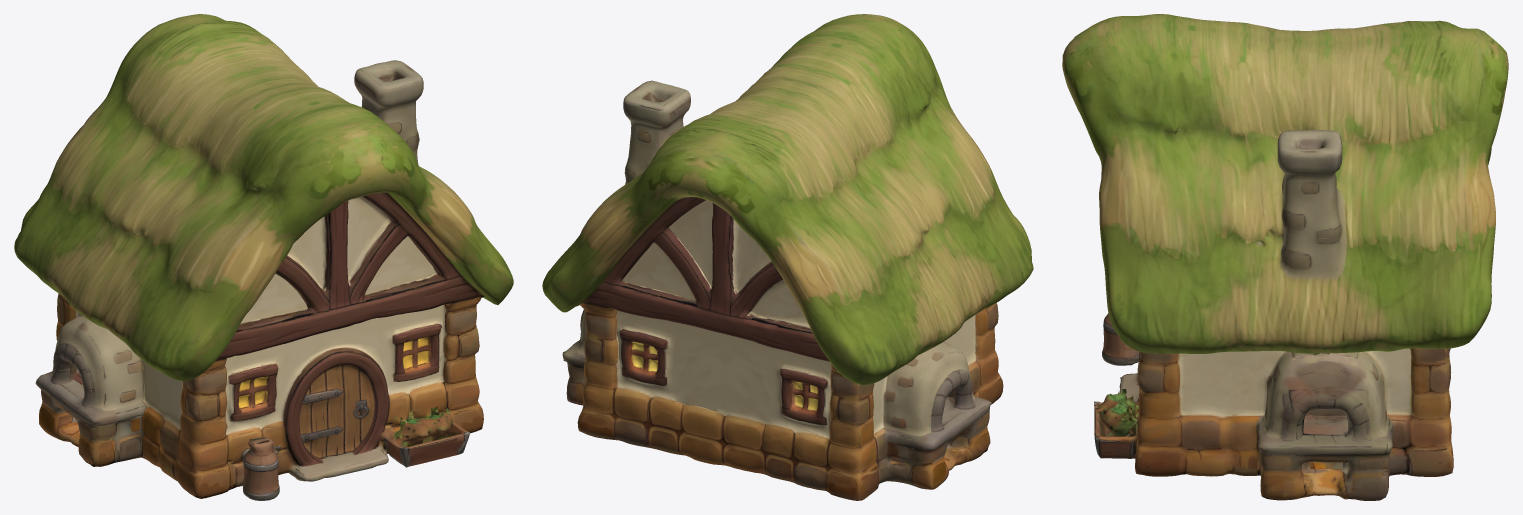
The model's file is building_mauds_hearth_v1.glb.
3 renders of one model, left to right at view 1: azimuth 30°, elevation 25°; view 2: azimuth 150°, elevation 25°; view 3: azimuth 270°, elevation 25°, orthographic. The views are drawn at different scales.
Visible parts, largest first — view 1: Mesh_0; view 2: Mesh_0; view 3: Mesh_0.
Boxes of the visible parts, x1,y1,x2,y2 form: Mesh_0: (14, 14, 513, 500); Mesh_0: (542, 14, 1033, 500); Mesh_0: (1062, 14, 1508, 500).
Size of the model in its own units: 1.9 by 1.67 by 1.77.
1 material, 1 textured.
